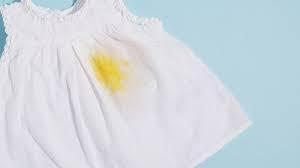lipstick: (88, 48, 124, 95)
